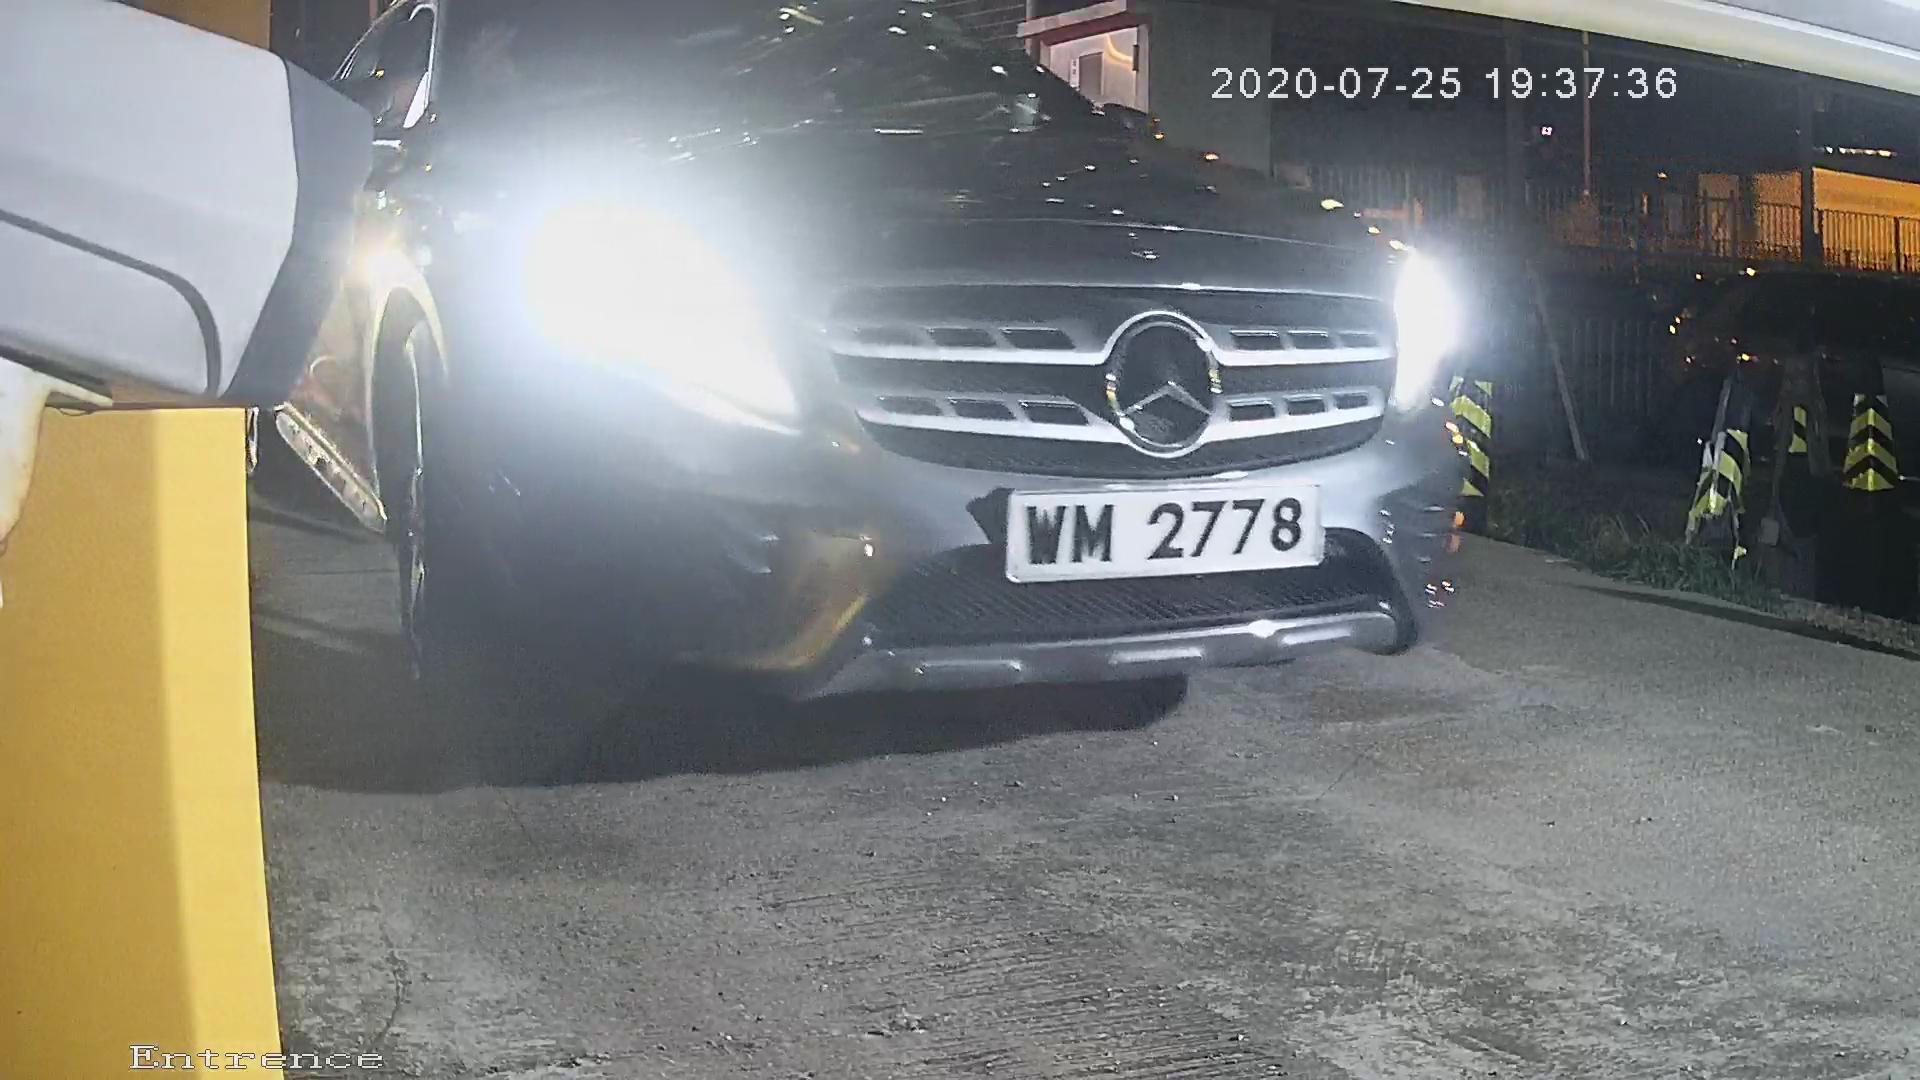privatecar: (232, 5, 1749, 738)
